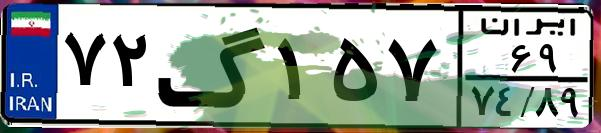1: (270, 28, 330, 110)
2: (110, 28, 156, 98)
4: (495, 70, 520, 125)
5: (330, 28, 385, 110)
6: (508, 27, 537, 80)
7: (385, 28, 445, 110), (57, 26, 110, 100), (470, 70, 495, 125)
8: (535, 70, 560, 125)
9: (560, 70, 590, 125), (537, 27, 568, 80)
گ: (156, 12, 270, 120)
